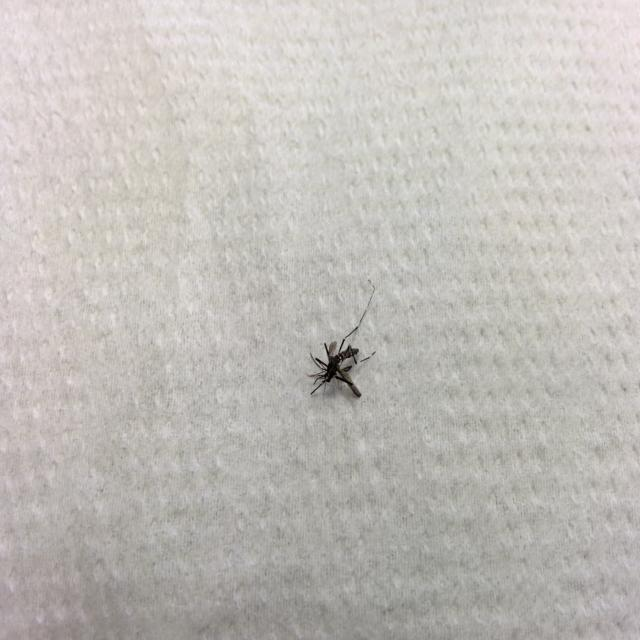albopictus: (303, 274, 380, 405)
